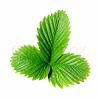Strawberry leaf: (38, 7, 72, 63), (48, 52, 90, 89), (8, 45, 50, 81)
